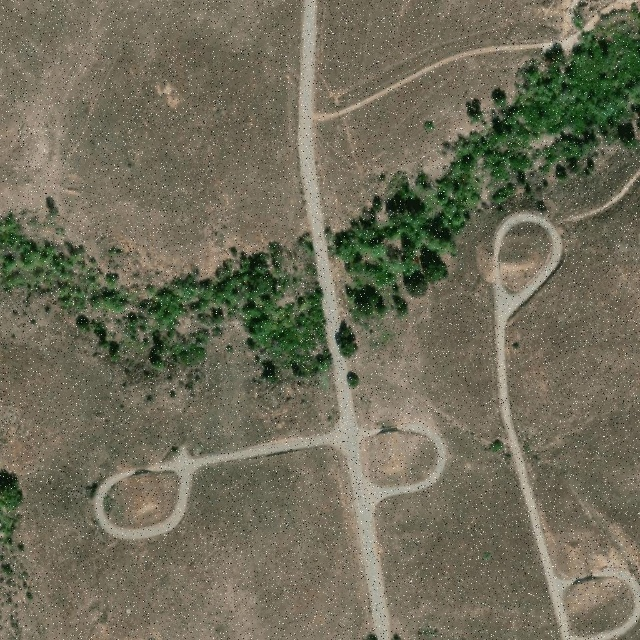vegetation: (324, 11, 640, 389), (0, 203, 329, 392), (0, 470, 25, 625)
